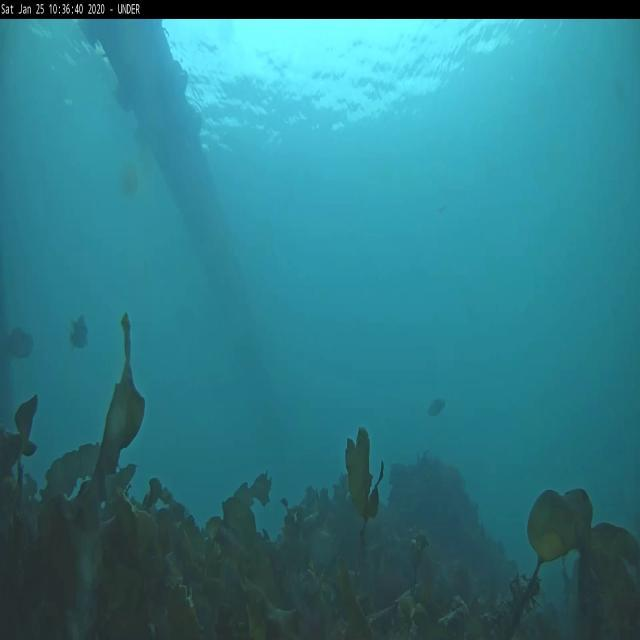fish: (3, 327, 34, 361), (69, 313, 90, 348), (431, 398, 446, 418)
